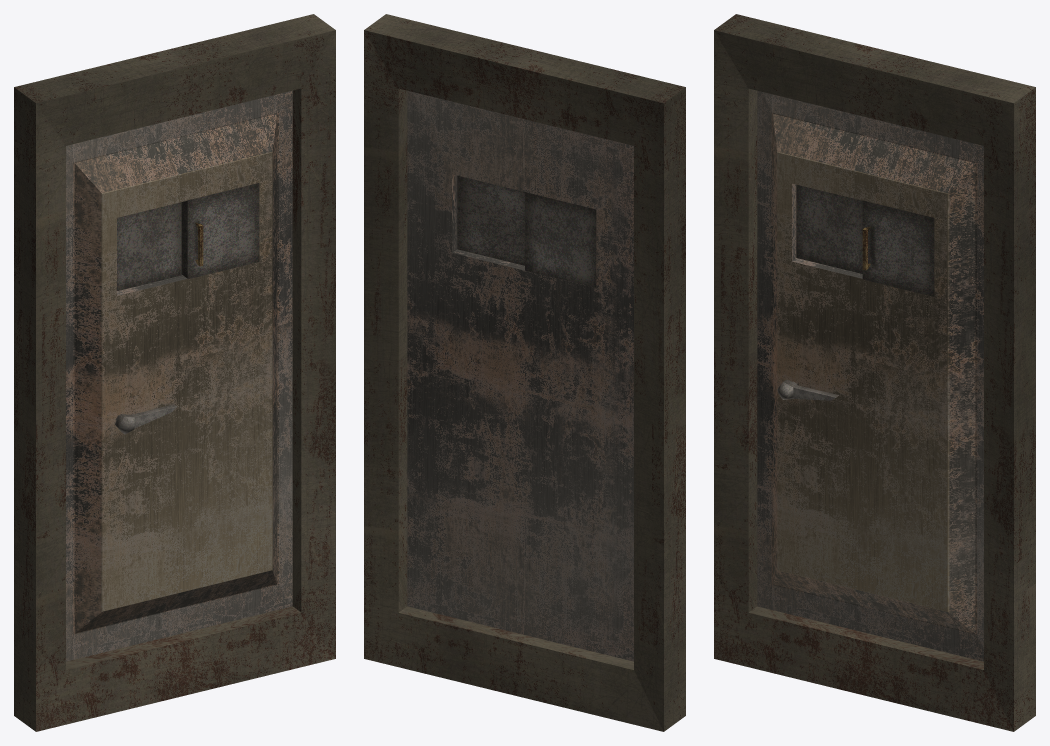
File: NormalDoor.fbx
The picture shows the model from 3 angles, left to right: view 1: azimuth 30°, elevation 25°; view 2: azimuth 150°, elevation 25°; view 3: azimuth 330°, elevation 25°; orthographic projection.
Parts seen in each view (by area): view 1: polySurface443, polySurface439, polySurface441, polySurface438; view 2: polySurface443, polySurface441, polySurface439; view 3: polySurface443, polySurface439, polySurface441, polySurface438.
Boxes of the visible parts, <box> form: polySurface443: <box>14,14,335,731</box>; polySurface439: <box>181,183,259,279</box>; polySurface441: <box>117,202,181,290</box>; polySurface438: <box>115,404,176,434</box>; polySurface443: <box>364,14,685,731</box>; polySurface441: <box>525,192,596,287</box>; polySurface439: <box>457,175,524,265</box>; polySurface443: <box>714,14,1035,731</box>; polySurface439: <box>862,200,934,296</box>; polySurface441: <box>796,184,862,273</box>; polySurface438: <box>777,379,838,400</box>.
Bounding box in the file's own units: 6.92 × 13.86 × 1.42.
